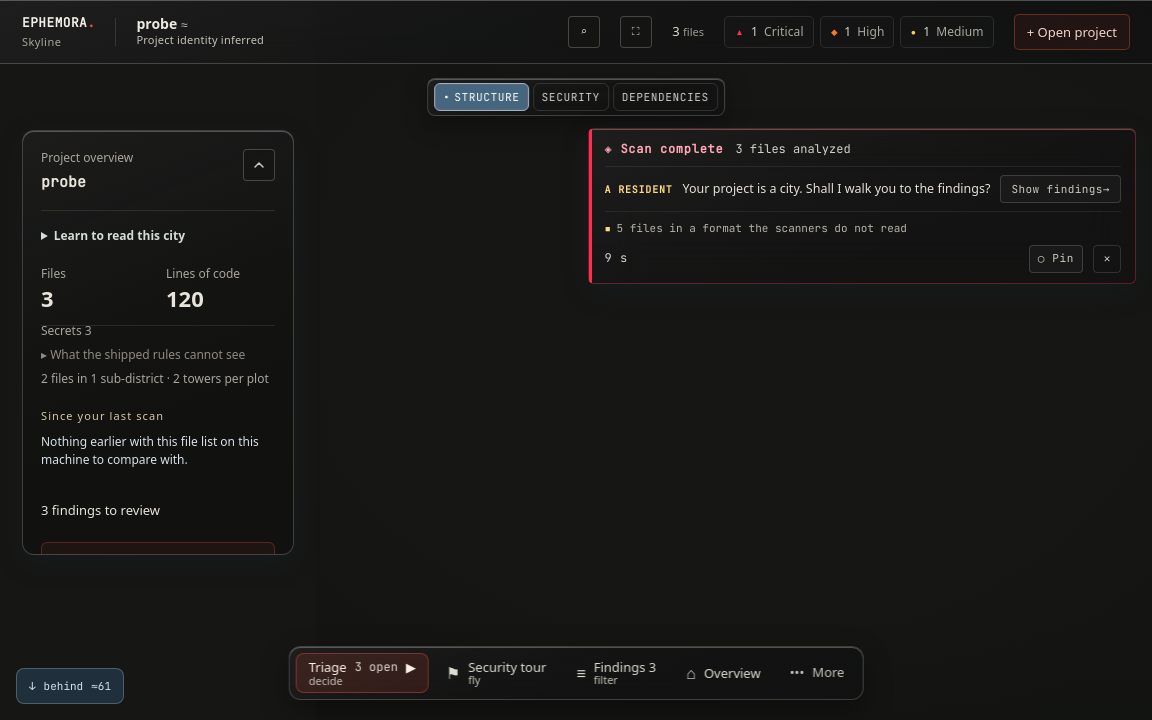
Test: what the budget hides › gives the figure's vitrine back on request, from inside the city
Click the button with id "city-more-button": point(817, 673) left=778, top=653, right=856, bottom=693
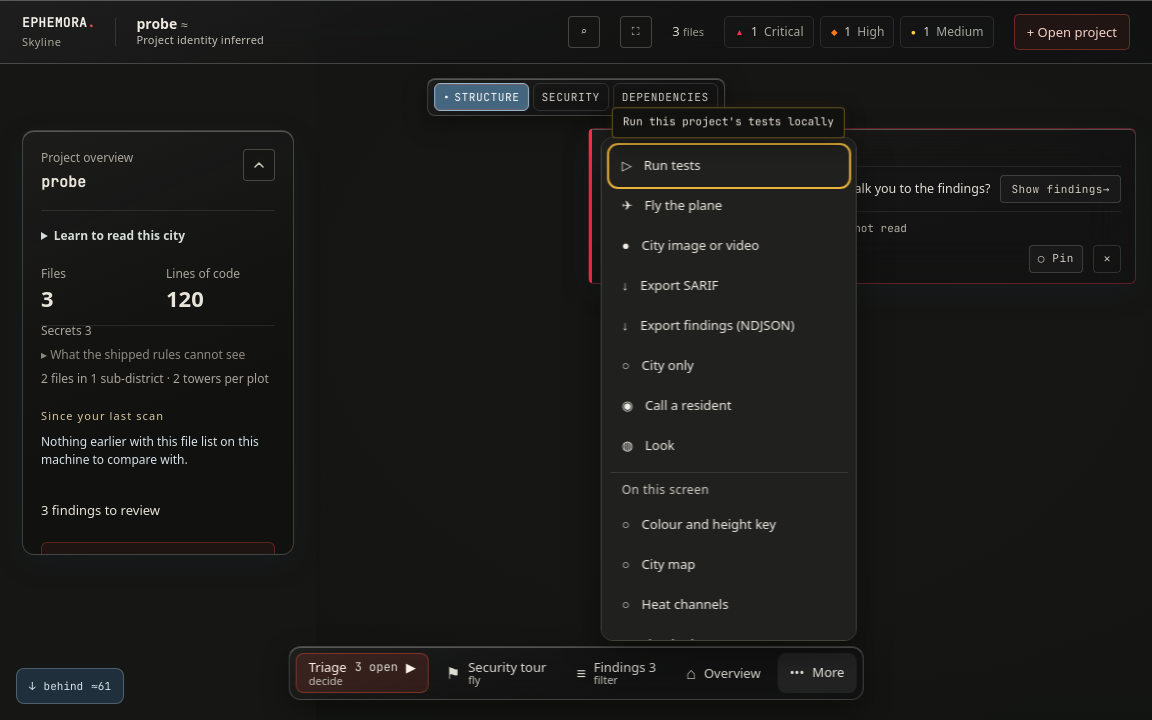
Click the menu item "◍ Look": point(728, 446) left=609, top=426, right=847, bottom=466
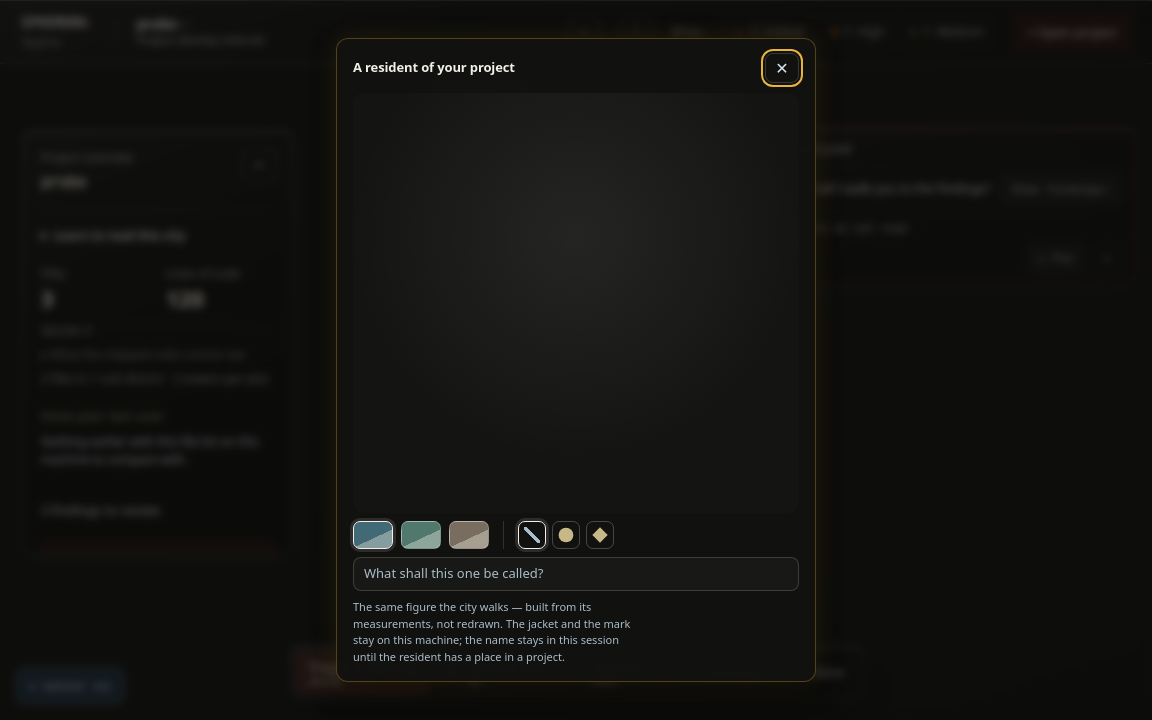
Result: the element with class "ephe-preview-panel" is shown at left=336, top=38, right=816, bottom=682
Result: the number of buttons with class "ephe-variant" is 3 at left=353, top=521, right=393, bottom=549; left=401, top=521, right=441, bottom=549; left=449, top=521, right=489, bottom=549
